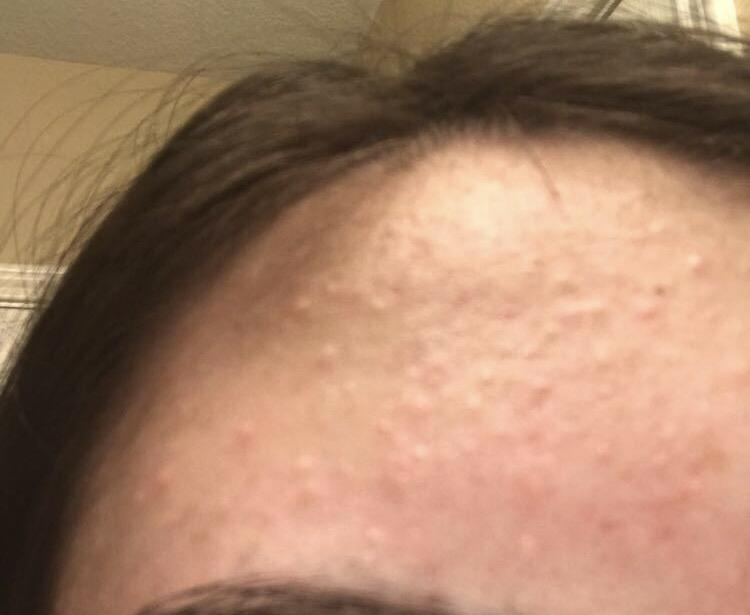Acne: (361, 273, 402, 327), (629, 281, 680, 324)
